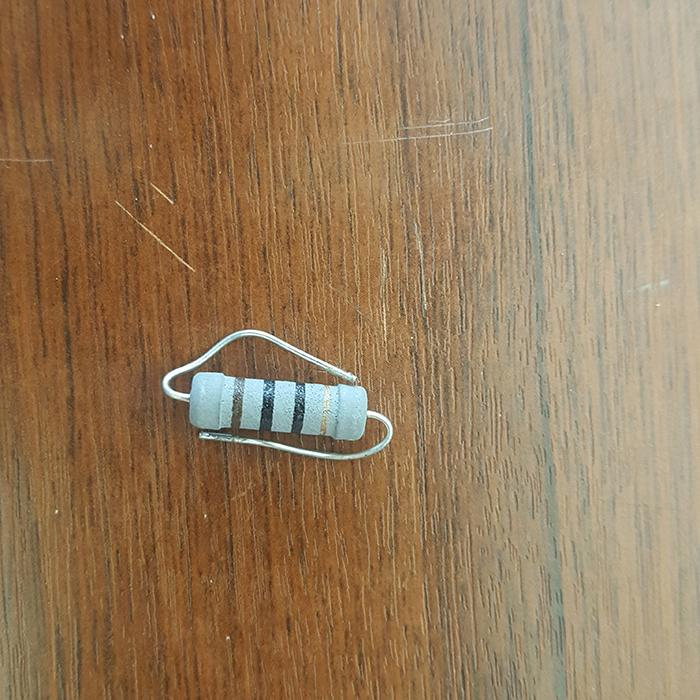resistor: (184, 370, 370, 442)
